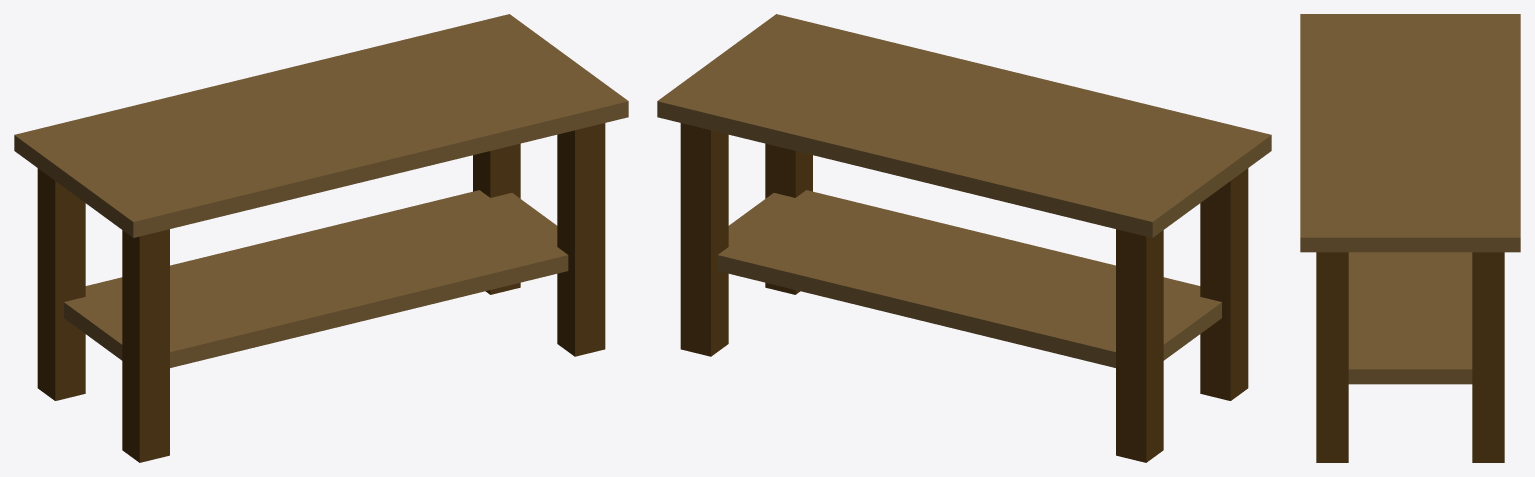
The model's file is Table.fbx.
3 renders of one model, left to right at view 1: azimuth 30°, elevation 25°; view 2: azimuth 150°, elevation 25°; view 3: azimuth 270°, elevation 25°, orthographic. The views are drawn at different scales.
Visible parts, largest first — view 1: Table; view 2: Table; view 3: Table.
Boxes of the visible parts, left/top/right/bottom form: Table: left=14, top=14, right=628, bottom=462; Table: left=657, top=14, right=1271, bottom=462; Table: left=1300, top=14, right=1520, bottom=462.
Bounding box in the file's own units: 144 × 69.67 × 60.
